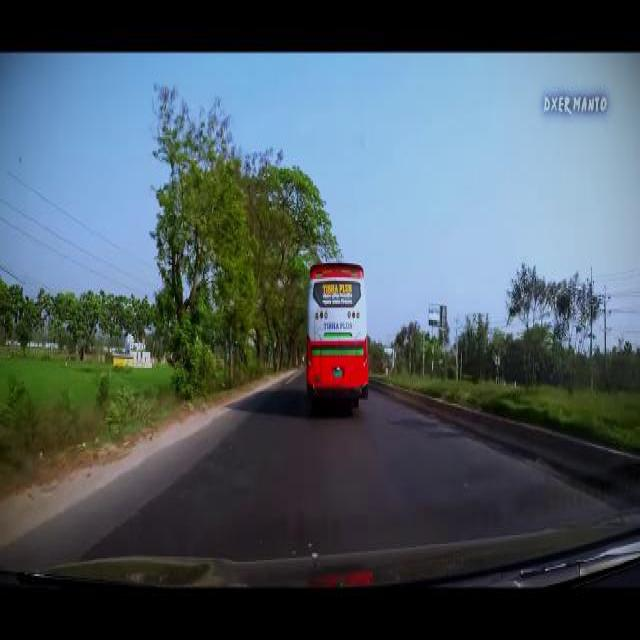Truck: (304, 260, 368, 401)
